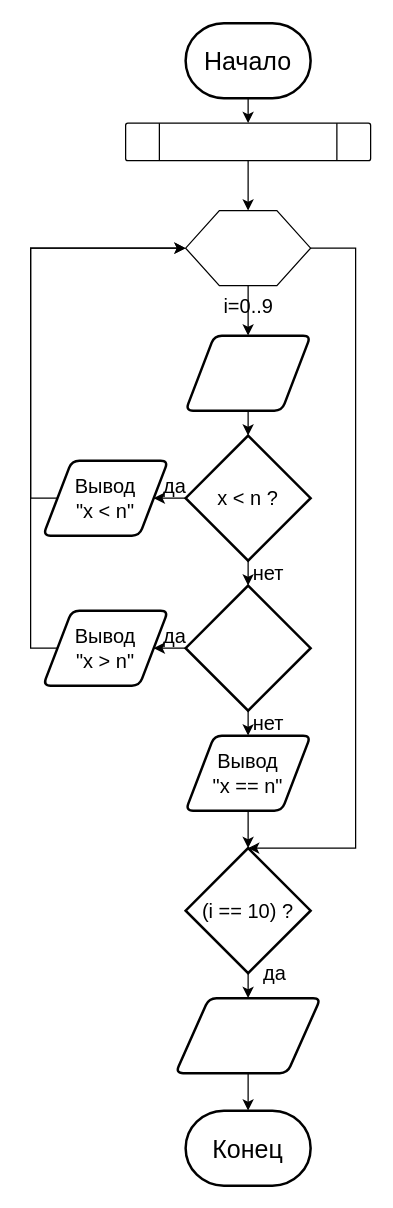
The diagram is 393 pixels wide and 1208 high, and some of its shapes have lost their labels. The shapes that lost their labels are listed below. From the top down, each one's centre as x and y in pixels, then its label:
At point 247,141: "n = random.randint(0, 100)".
At point 247,372: "Ввод x".
At point 247,647: "x > n ?".
At point 247,1035: "Вывод число не отгадано".
